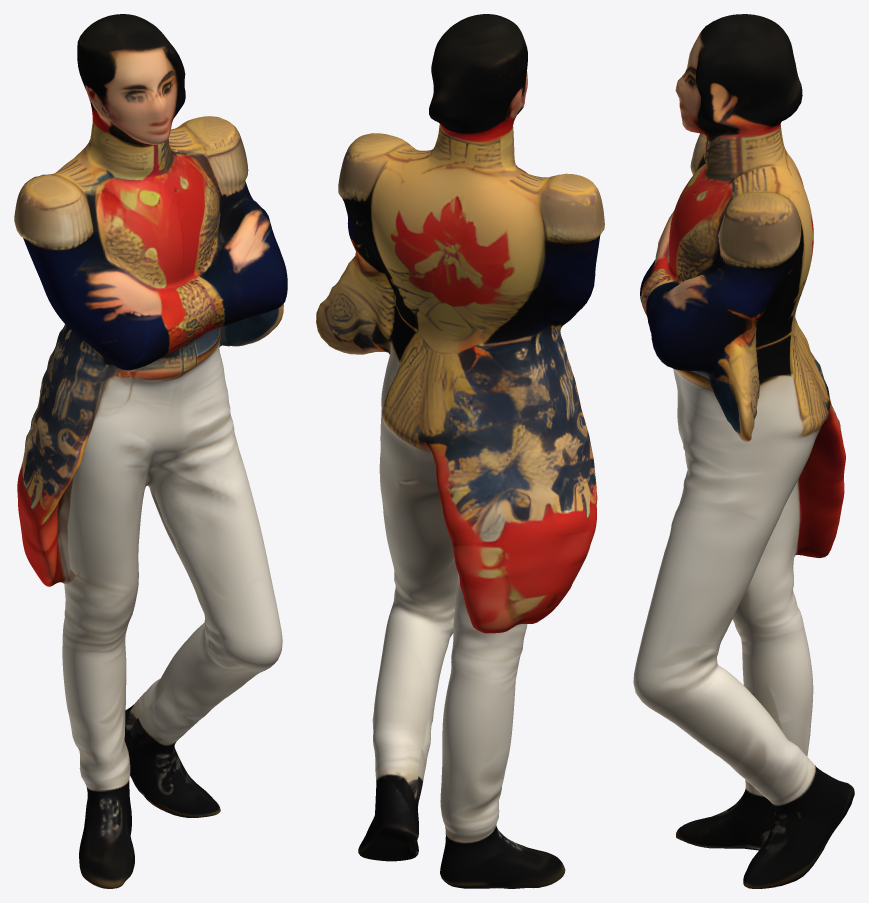
The model's file is bolivar.gltf.
3 renders of one model, left to right at view 1: azimuth 30°, elevation 25°; view 2: azimuth 150°, elevation 25°; view 3: azimuth 270°, elevation 25°, orthographic. The views are drawn at different scales.
Visible parts, largest first — view 1: model; view 2: model; view 3: model.
Boxes of the visible parts, bbox=[...] form: model: bbox=[14, 14, 287, 888]; model: bbox=[316, 14, 604, 888]; model: bbox=[633, 14, 854, 888].
Size of the model in its own units: 3.81 by 11.35 by 2.71.
1 material, 1 textured.
